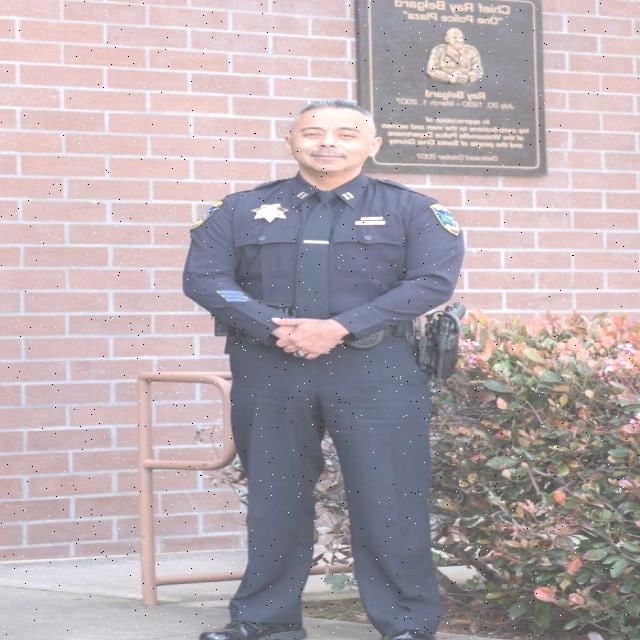police: (145, 99, 525, 640)
